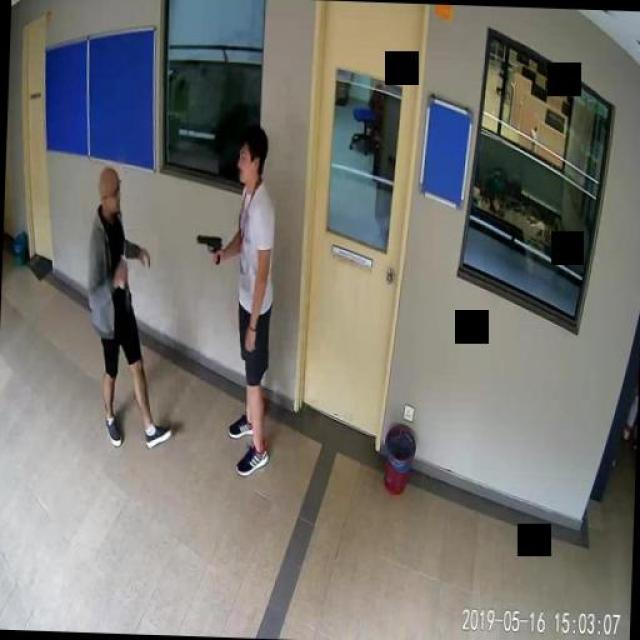gun: (194, 230, 221, 265)
